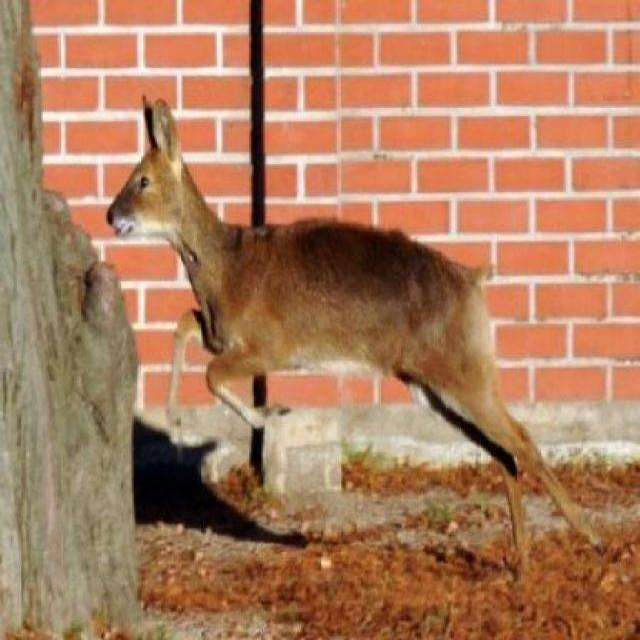deer: (106, 92, 494, 432)
